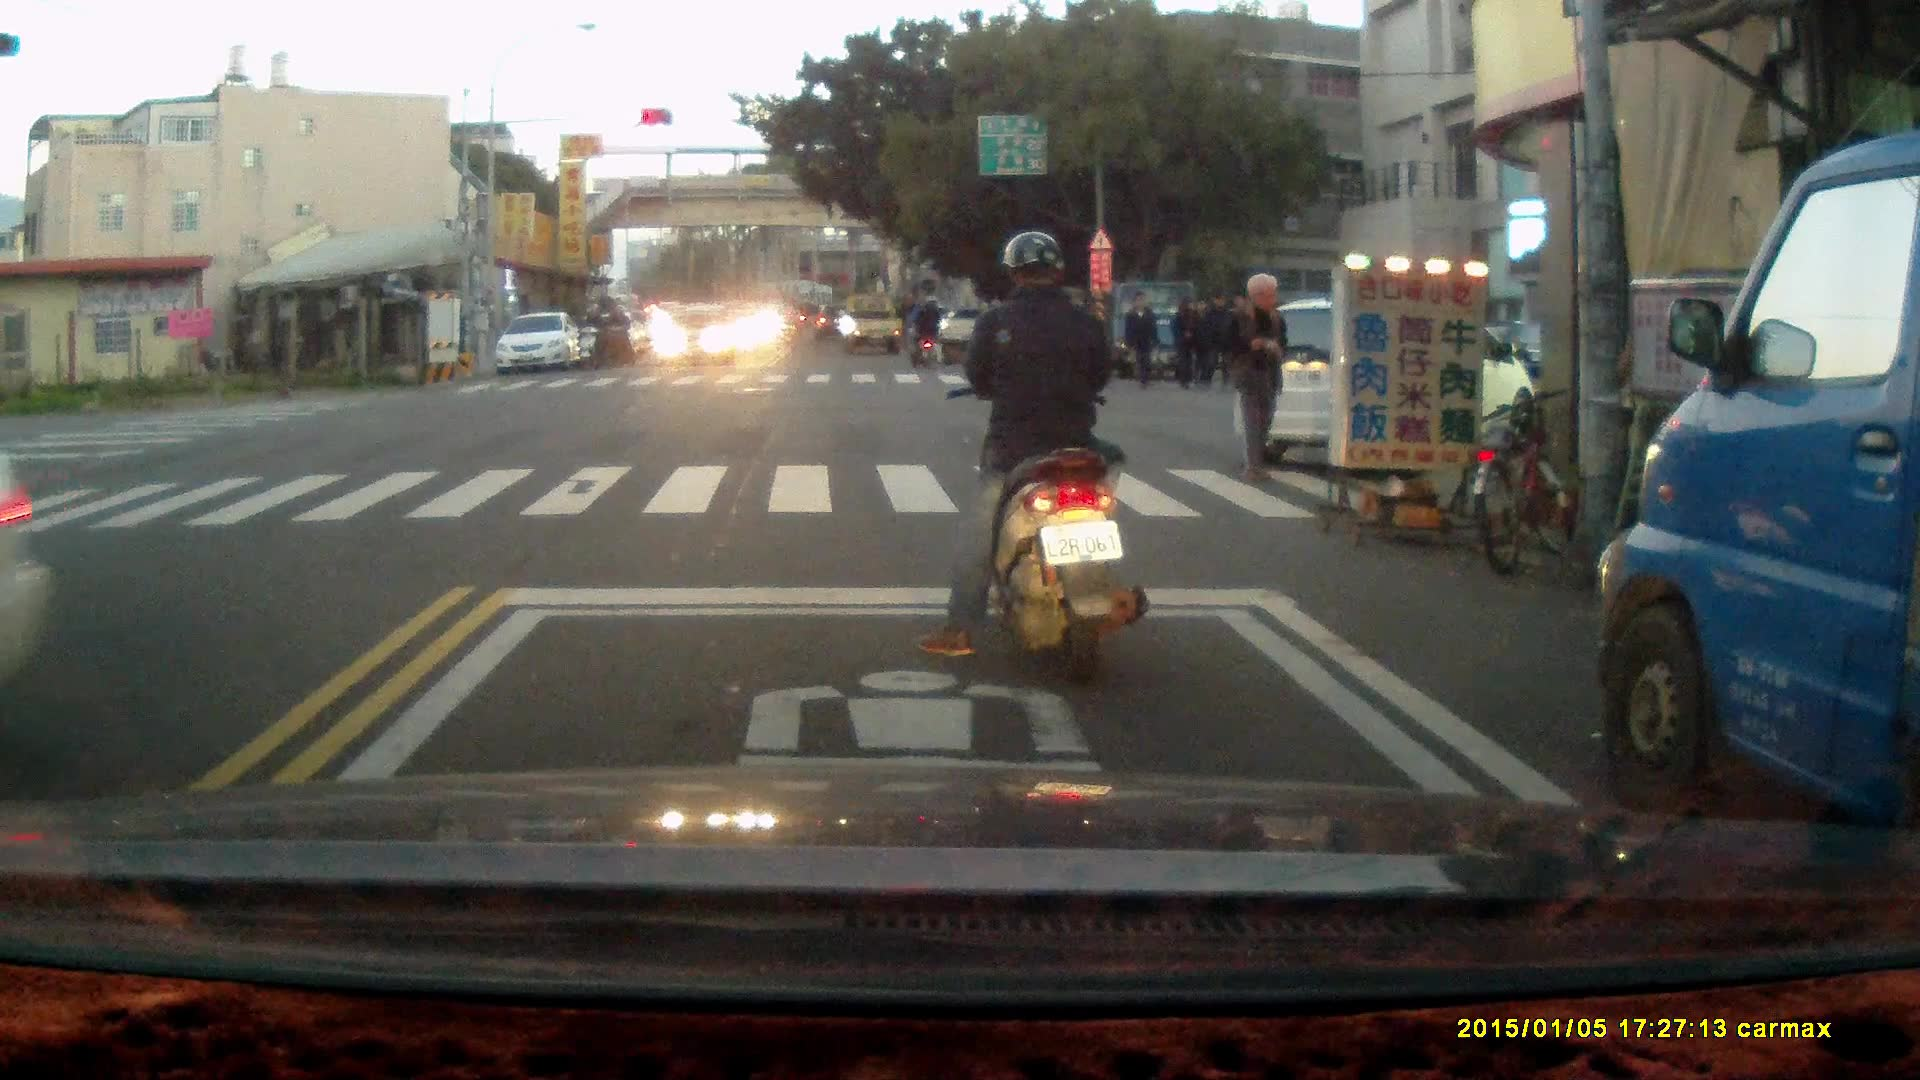pedestrian: (1221, 272, 1295, 485), (1120, 291, 1162, 393), (1170, 292, 1204, 392)
rider: (918, 226, 1149, 686), (905, 294, 942, 367), (577, 301, 612, 372), (596, 300, 632, 367)
vehicle: (1596, 120, 1920, 901), (1236, 303, 1533, 462), (651, 299, 744, 368), (493, 311, 584, 378), (839, 295, 901, 356)
